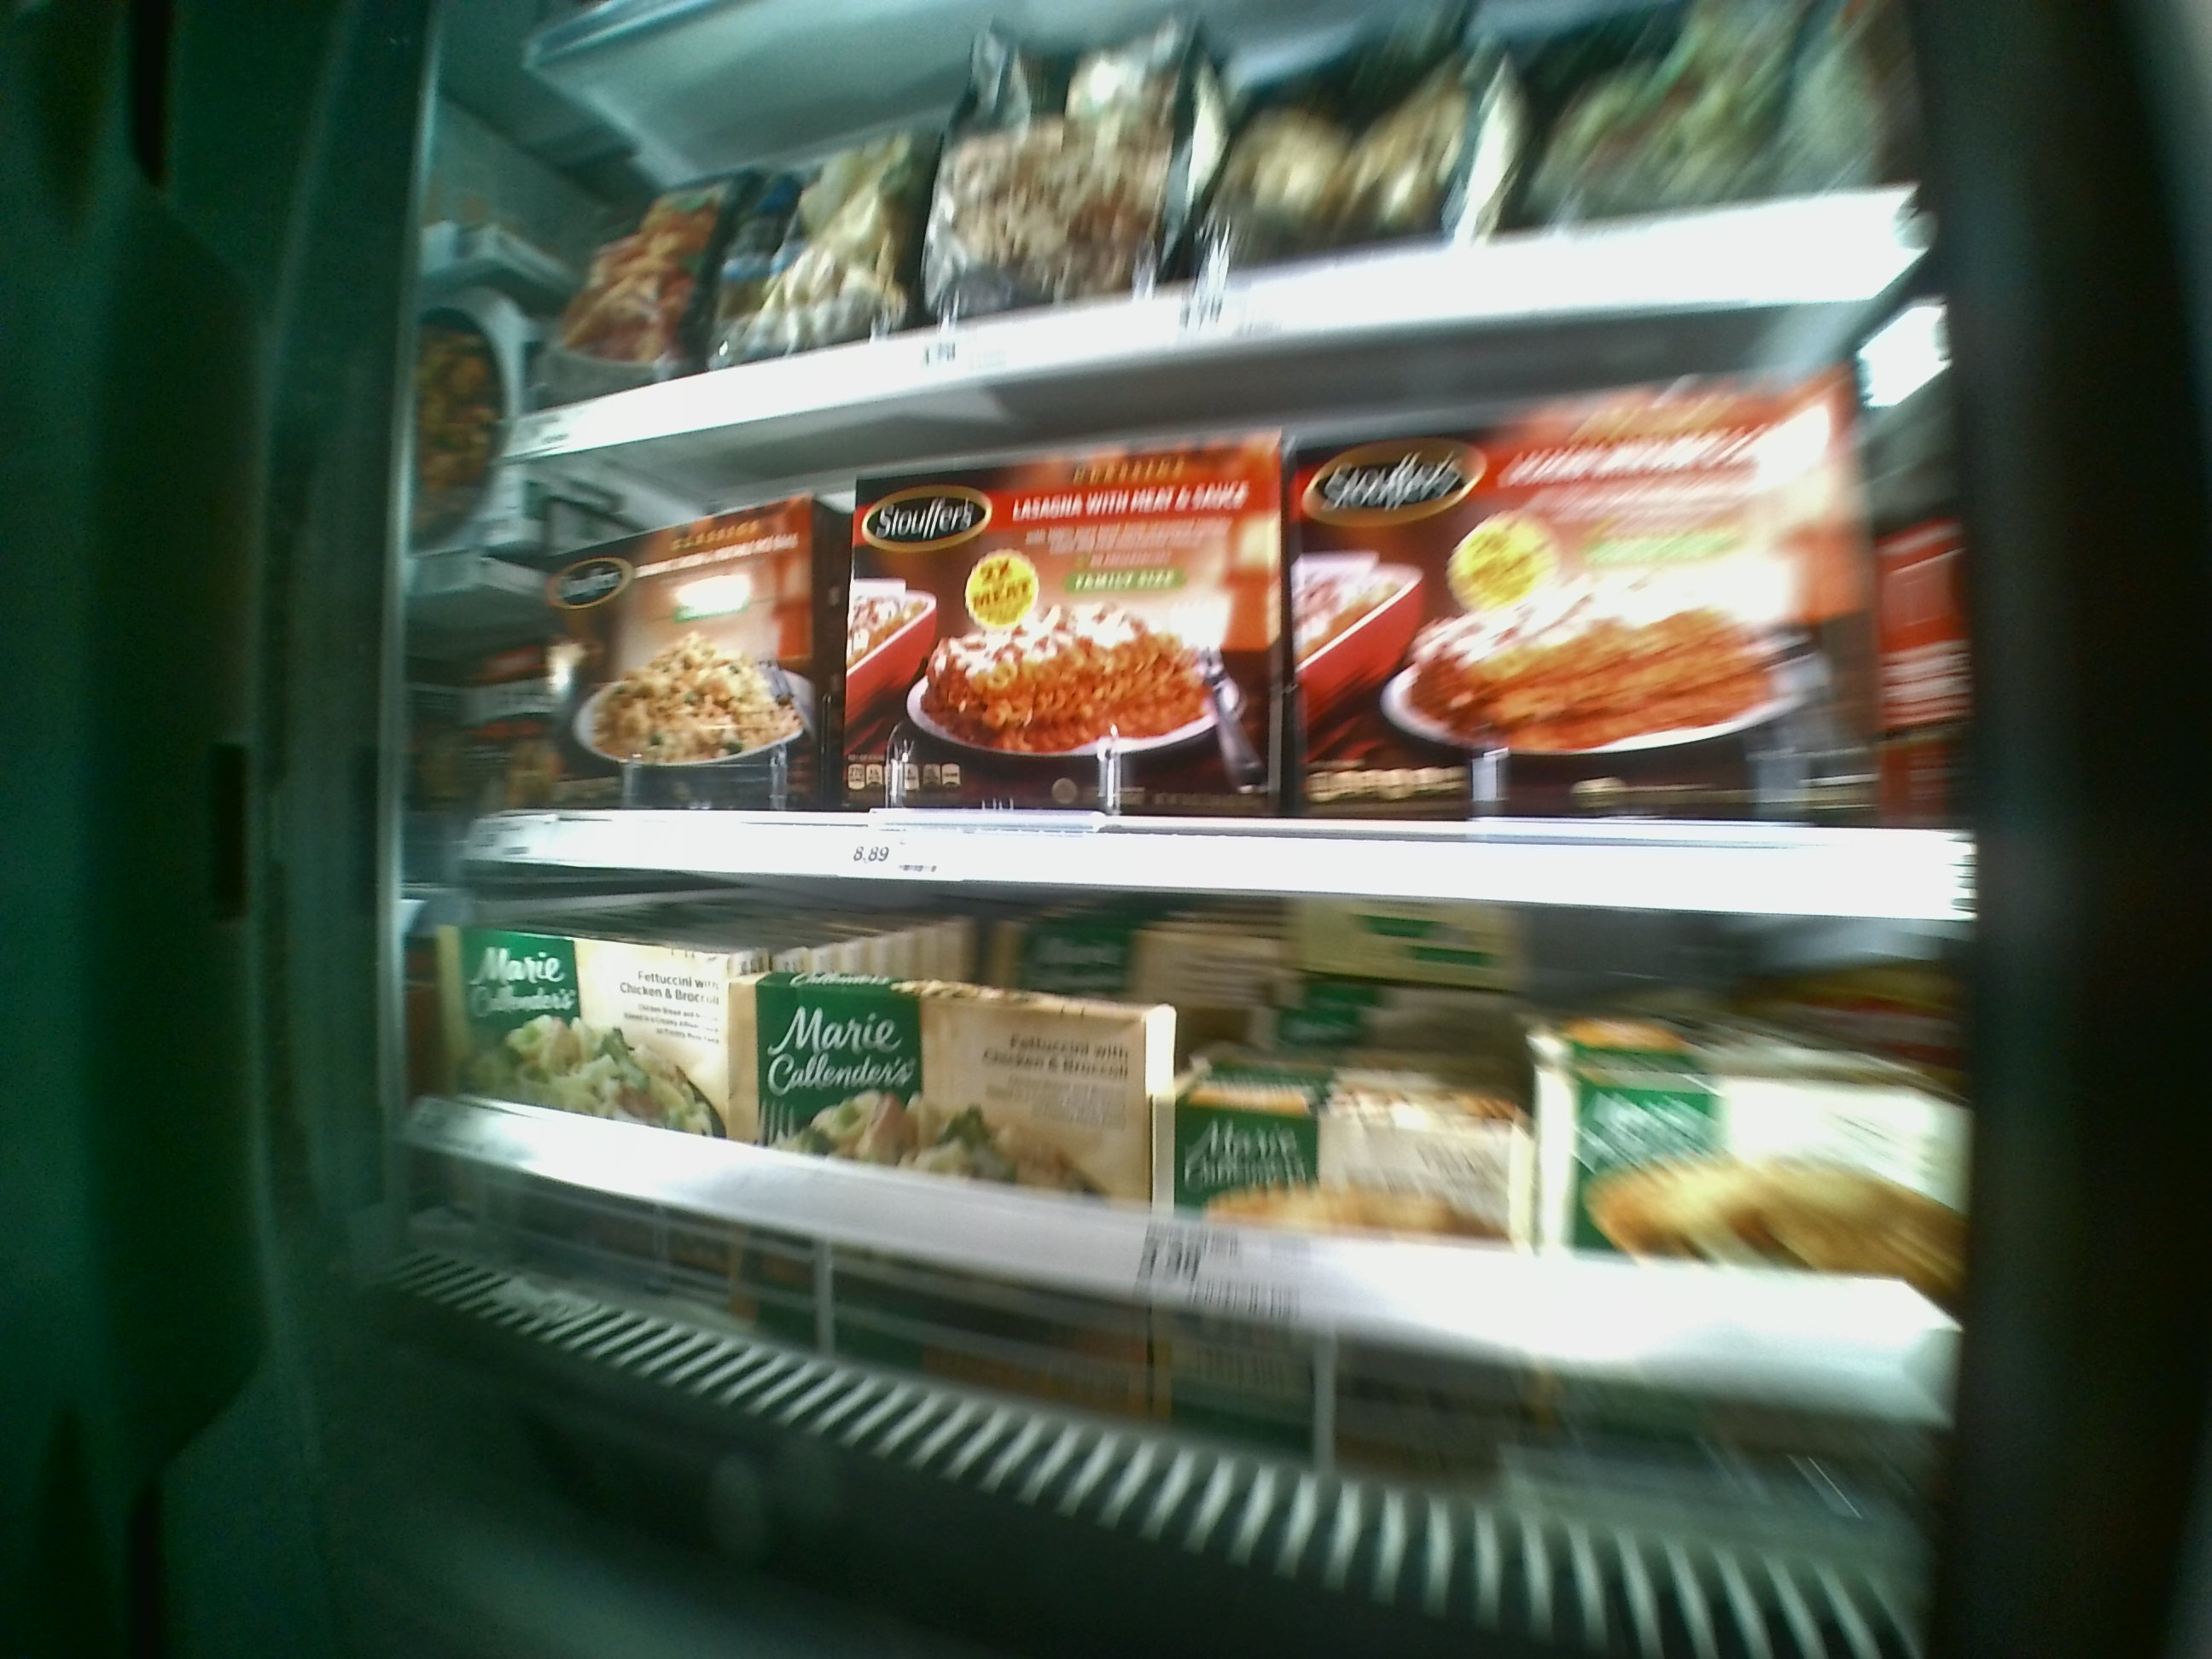shelf: (435, 863, 1968, 1565), (411, 289, 1975, 924)
